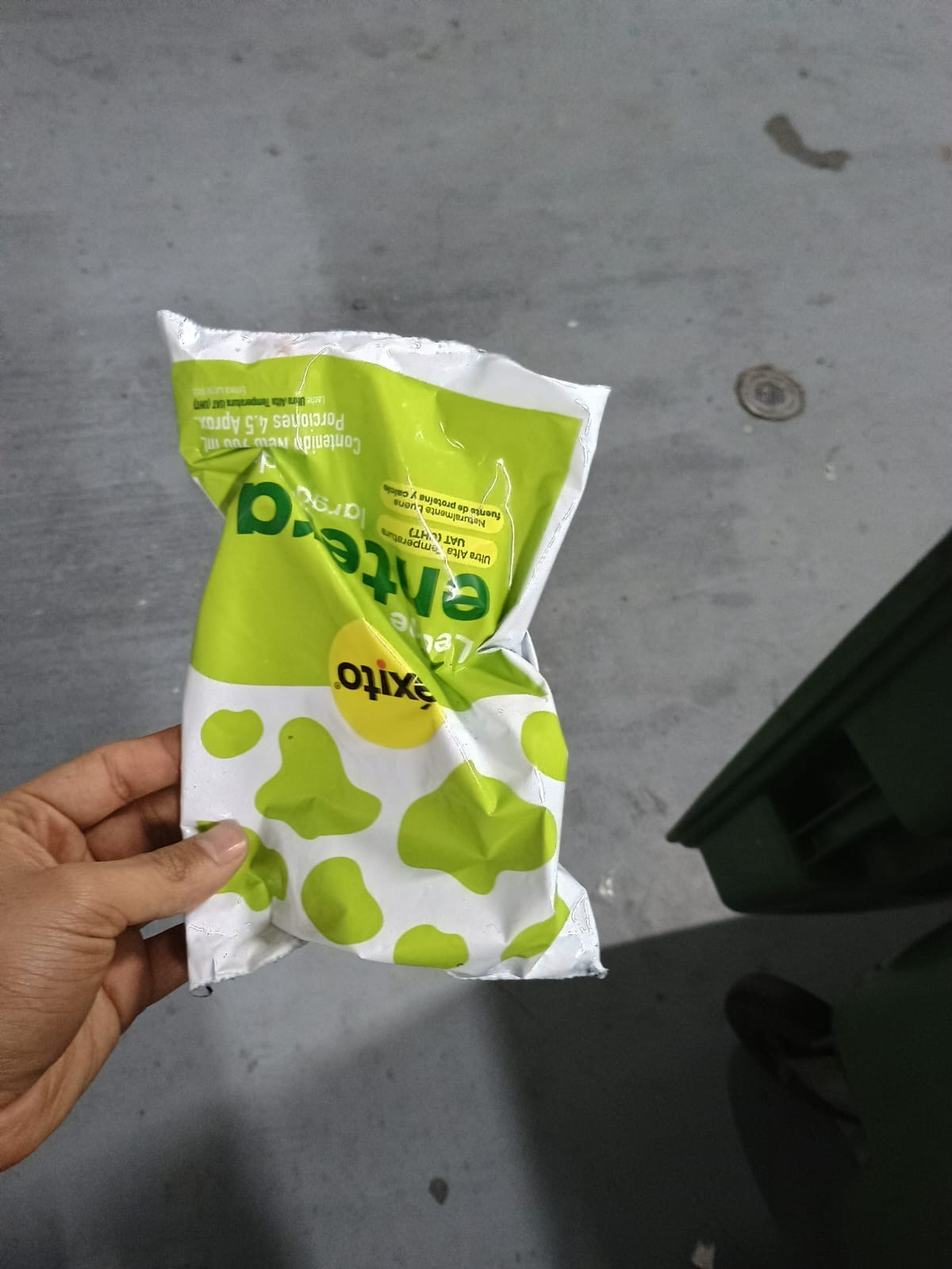Ordinario: (154, 308, 616, 989)
